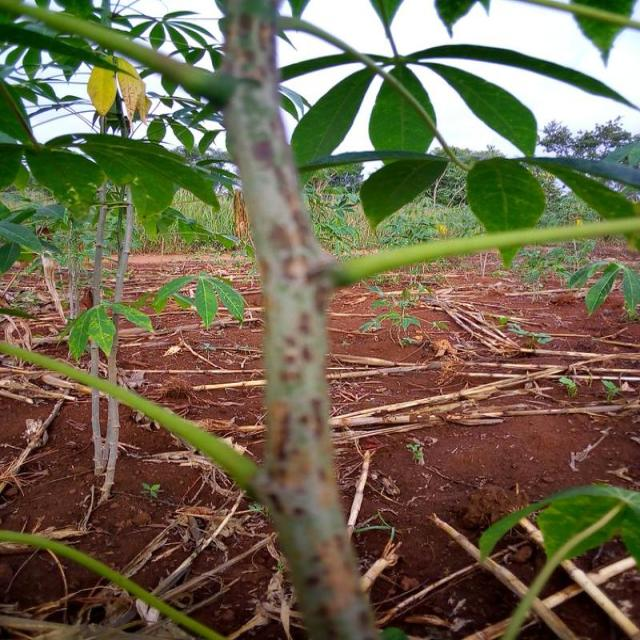cassava leaf: (466, 156, 546, 268), (369, 62, 438, 162), (359, 154, 450, 229)
